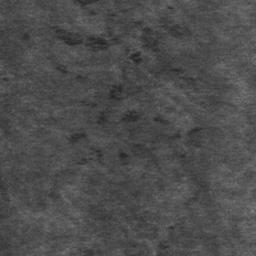Rolled in scale: (27, 56, 203, 207), (47, 0, 195, 133), (99, 210, 185, 256), (0, 64, 33, 135), (52, 219, 102, 256), (175, 174, 207, 207), (226, 45, 256, 68), (0, 177, 10, 218), (6, 0, 17, 10)
